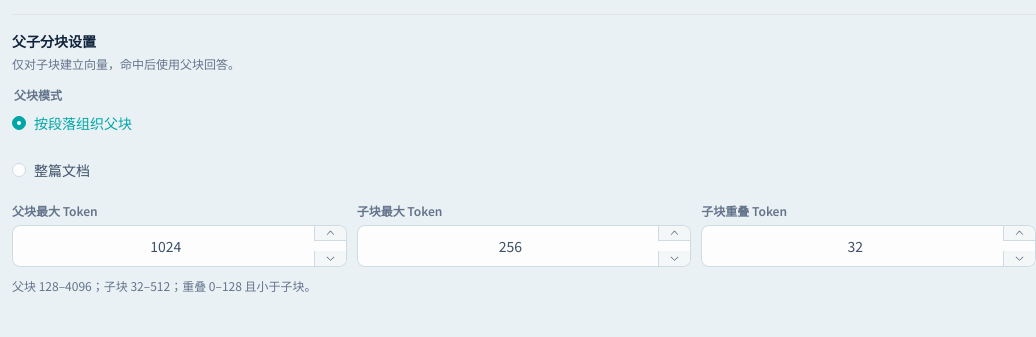
it: ParentChildStrategyConfig › marks overlap equal to child size invalid while publishing the complete current config
Replace the text in the number field labelled "子块最大 Token" with "128": x=511, y=246 [372, 226, 649, 266]
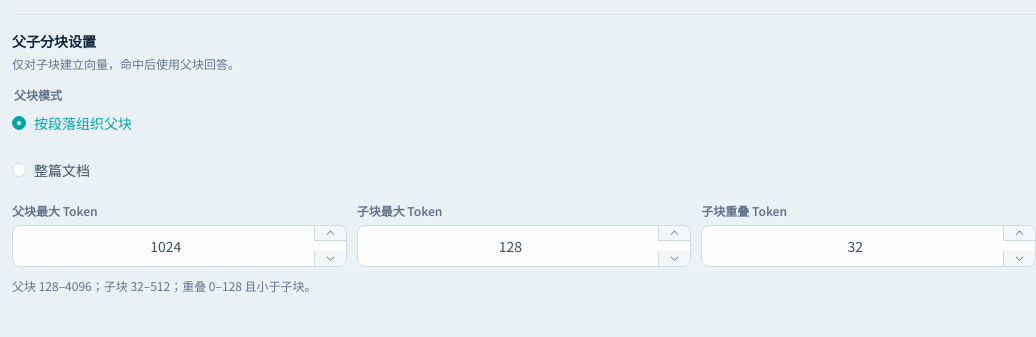
Replace the text in the number field labelled "子块重叠 Token" with "128": x=855, y=246 [716, 226, 994, 266]
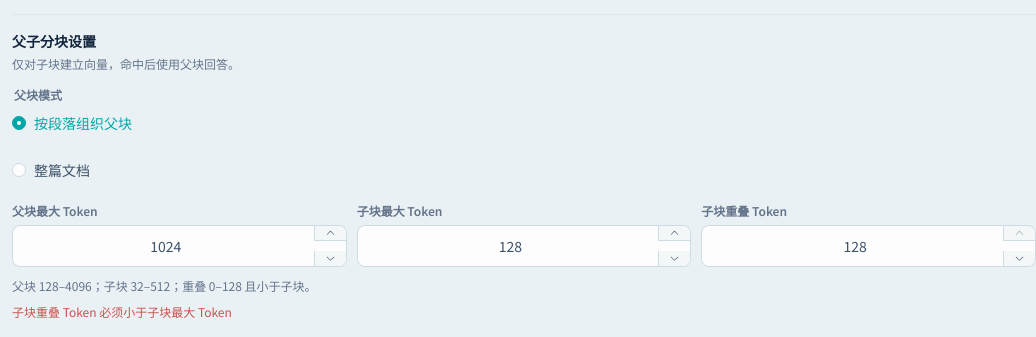
Check: the message "子块重叠 Token 必须小于子块最大 Token" is shown, box [12, 303, 232, 320]
